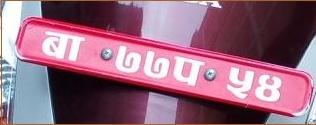4: (254, 74, 283, 101)
5: (227, 65, 253, 99)
7: (142, 51, 170, 79), (114, 45, 141, 73)
ba: (42, 30, 81, 62)
pa: (173, 53, 203, 89)
